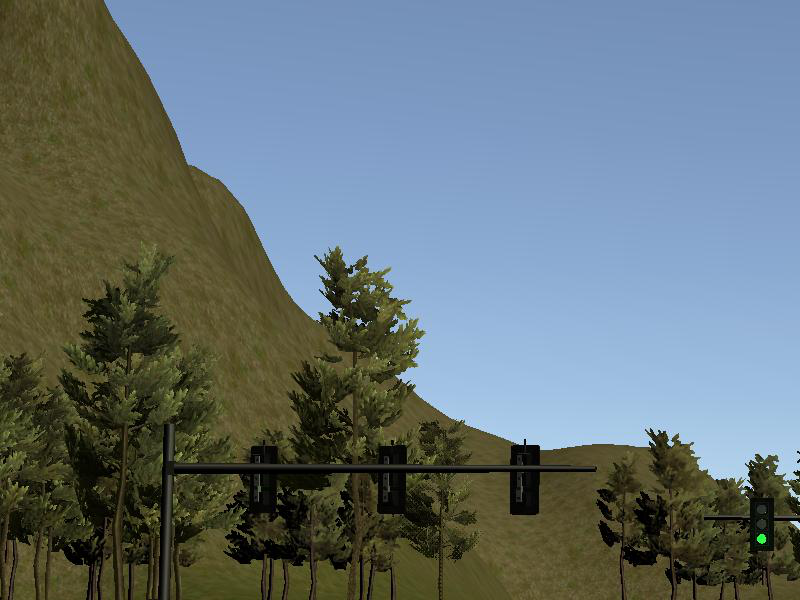green: (751, 498, 775, 552)
